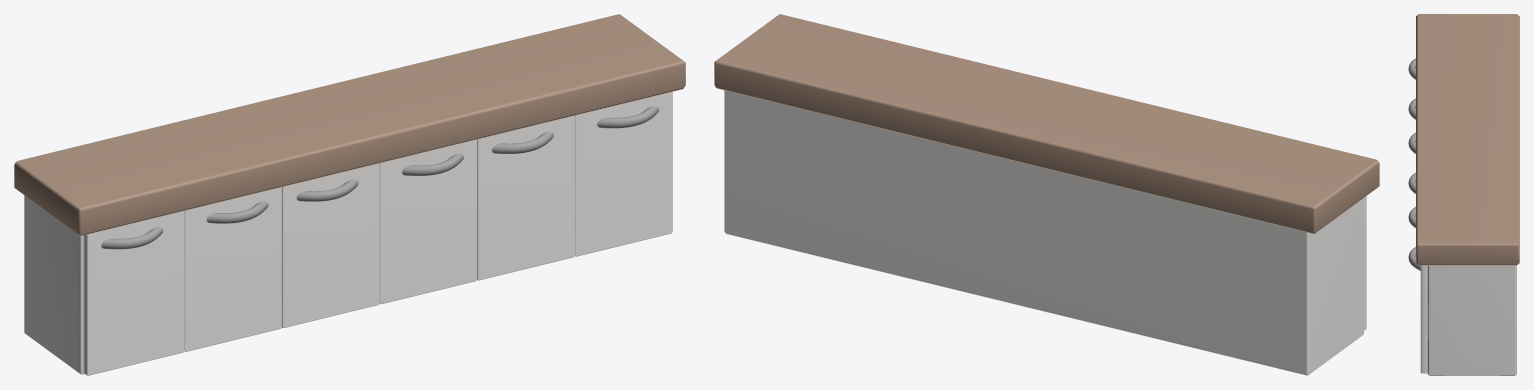
Rendered from messa.fbx.
3 renders of one model, left to right at view 1: azimuth 30°, elevation 25°; view 2: azimuth 150°, elevation 25°; view 3: azimuth 270°, elevation 25°, orthographic. The views are drawn at different scales.
Visible parts, largest first — view 1: Cafe_Cabinet_2; view 2: Cafe_Cabinet_2; view 3: Cafe_Cabinet_2.
Part boxes in pixels (bbox=[...]): Cafe_Cabinet_2: bbox=[14, 14, 685, 375]; Cafe_Cabinet_2: bbox=[714, 14, 1379, 375]; Cafe_Cabinet_2: bbox=[1408, 14, 1519, 375].
Bounding box in the file's own units: 357 × 98.05 × 72.45.
Materials: 1 (1 with a texture image).
